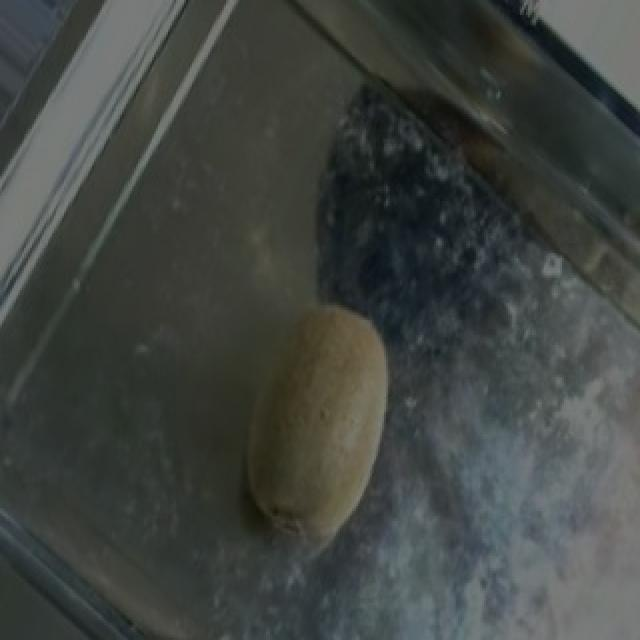Fruit: (212, 266, 422, 554)
